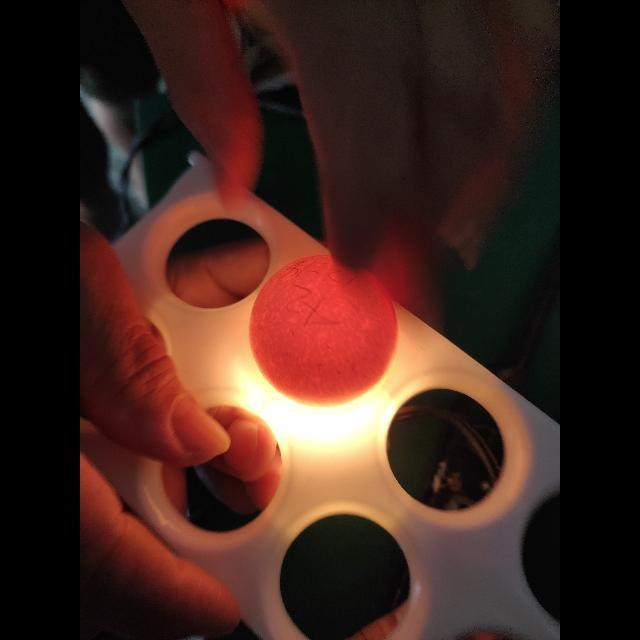Infertile: (242, 248, 402, 410)
